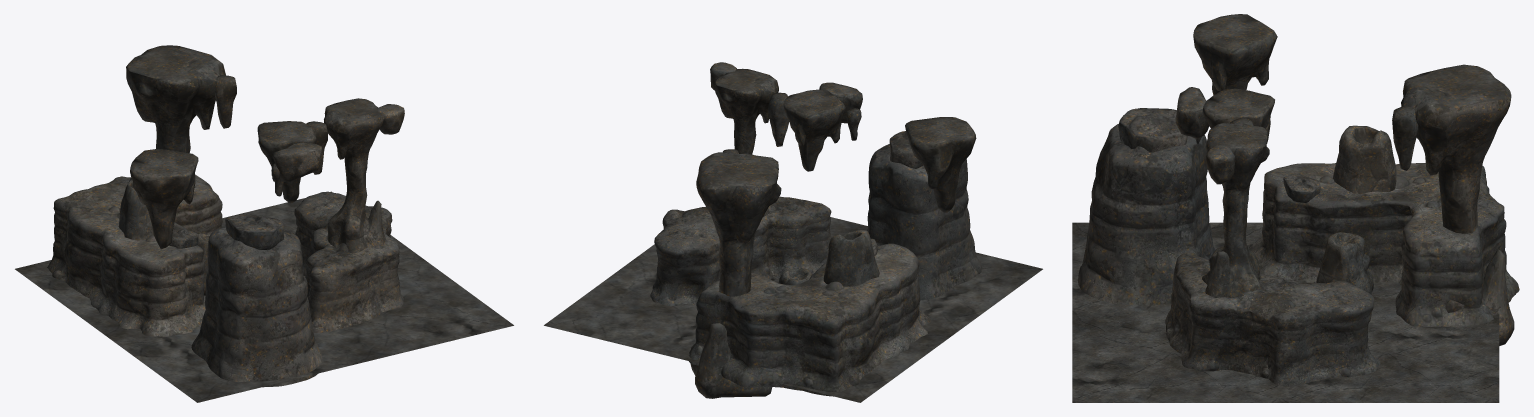
The model's file is cave.glb.
3 renders of one model, left to right at view 1: azimuth 30°, elevation 25°; view 2: azimuth 150°, elevation 25°; view 3: azimuth 270°, elevation 25°, orthographic. The views are drawn at different scales.
Parts seen in each view (by area): view 1: floor, cliff3, cliff1, cliff2, pilar1_1, pilar1, pilar2_1, pilar2, pilar7, pilar3, pilar4_1, pilar5 (+2 smaller); view 2: cliff3, floor, cliff1, cliff2, pilar1_1, pilar2_1, pilar1, pilar2, pilar3, pilar4, pilar7; view 3: floor, cliff3, cliff1, cliff2, pilar1_1, pilar1, pilar2_1, pilar3, pilar6, pilar2, pilar7, pilar4_1 (+2 smaller).
Boxes of the visible parts, box(x1,y1,x2,y2) form: floor: box(15, 191, 513, 402); cliff3: box(47, 174, 222, 336); cliff1: box(191, 214, 322, 387); cliff2: box(294, 191, 403, 332); pilar1_1: box(126, 45, 225, 153); pilar1: box(324, 98, 386, 253); pilar2_1: box(130, 149, 198, 249); pilar2: box(257, 121, 316, 203); pilar7: box(272, 142, 321, 181); pilar3: box(118, 178, 153, 240); pilar4_1: box(215, 75, 236, 128); pilar5: box(377, 104, 404, 134); cliff3: box(689, 243, 931, 396); floor: box(544, 217, 1042, 402); cliff1: box(867, 131, 982, 300); cliff2: box(650, 196, 831, 306); pilar1_1: box(690, 152, 781, 398); pilar2_1: box(905, 117, 976, 212); pilar1: box(714, 68, 778, 216); pilar2: box(783, 89, 845, 171); pilar3: box(823, 230, 879, 286); pilar4: box(768, 92, 789, 146); pilar7: box(819, 82, 862, 123); floor: box(1072, 222, 1499, 402); cliff3: box(1249, 163, 1519, 327); cliff1: box(1078, 108, 1215, 304); cliff2: box(1165, 252, 1380, 386); pilar1_1: box(1401, 64, 1514, 345); pilar1: box(1202, 123, 1269, 297); pilar2_1: box(1193, 14, 1277, 95); pilar3: box(1333, 125, 1396, 194); pilar6: box(1316, 232, 1373, 294); pilar2: box(1202, 88, 1274, 143); pilar7: box(1175, 87, 1209, 138); pilar4_1: box(1392, 106, 1418, 170).
Size of the model in its own units: 4000 by 2637 by 4189.
3 materials, 3 textured.
